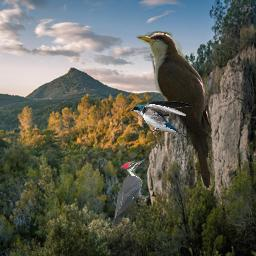Cuckoo: (136, 31, 216, 192)
Swallow: (130, 100, 193, 139)
Woodpecker: (109, 158, 149, 227)
